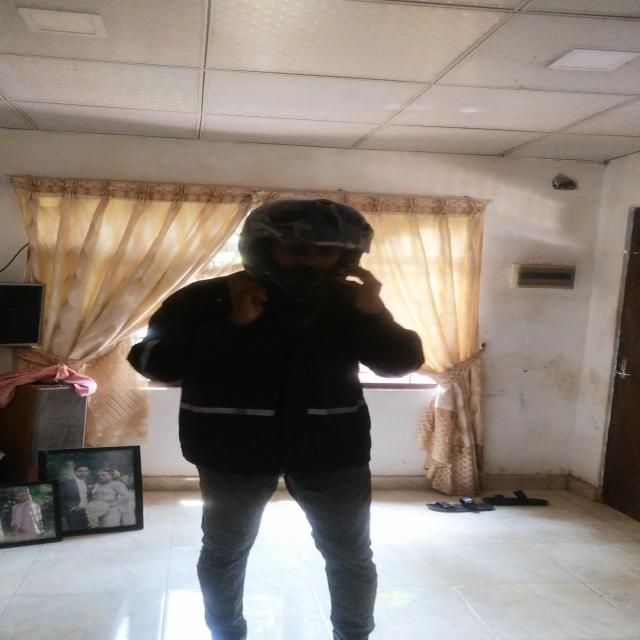Helmet_Wearer: (214, 192, 386, 306)
Jacket_Wearer: (129, 270, 432, 471)
Person: (125, 191, 425, 640)
